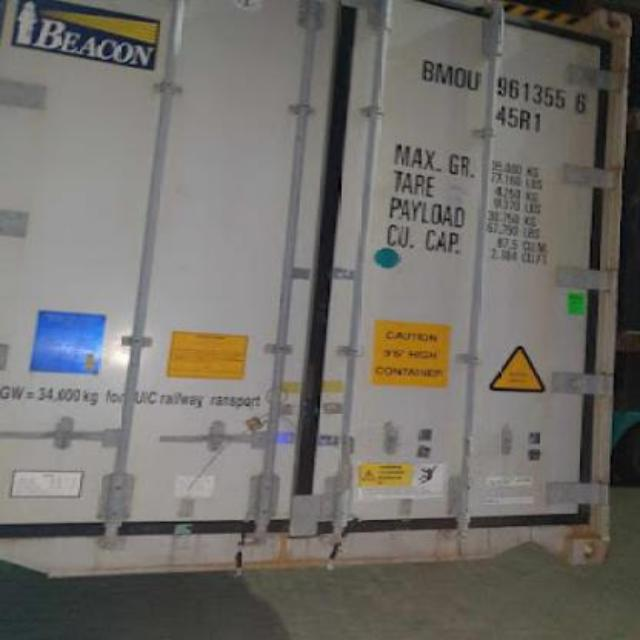1: (522, 78, 532, 102)
3: (530, 78, 544, 108)
5: (540, 80, 556, 116), (556, 83, 570, 113)
6: (576, 89, 594, 119), (510, 70, 522, 98)
9: (498, 72, 508, 96)
B: (421, 59, 434, 86)
M: (436, 57, 452, 89)
O: (450, 66, 468, 94)
U: (464, 64, 482, 96)
